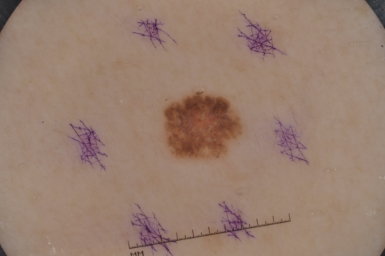seborrheic keratosis: (152, 86, 249, 174)
